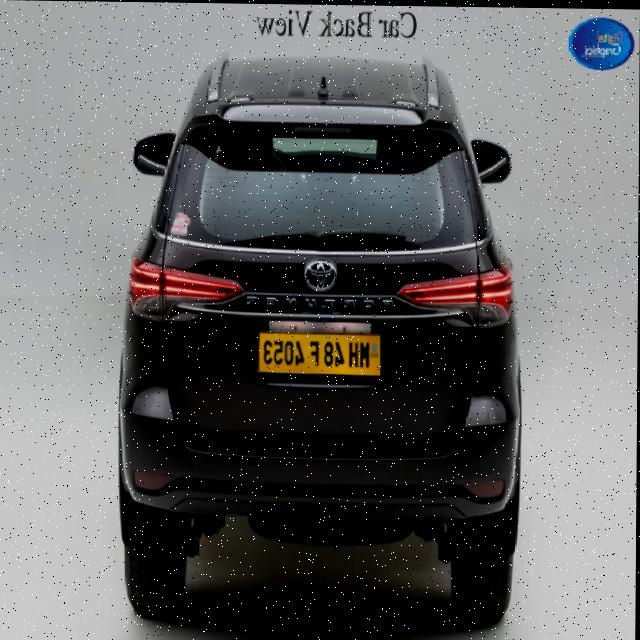plate: (254, 326, 386, 383)
